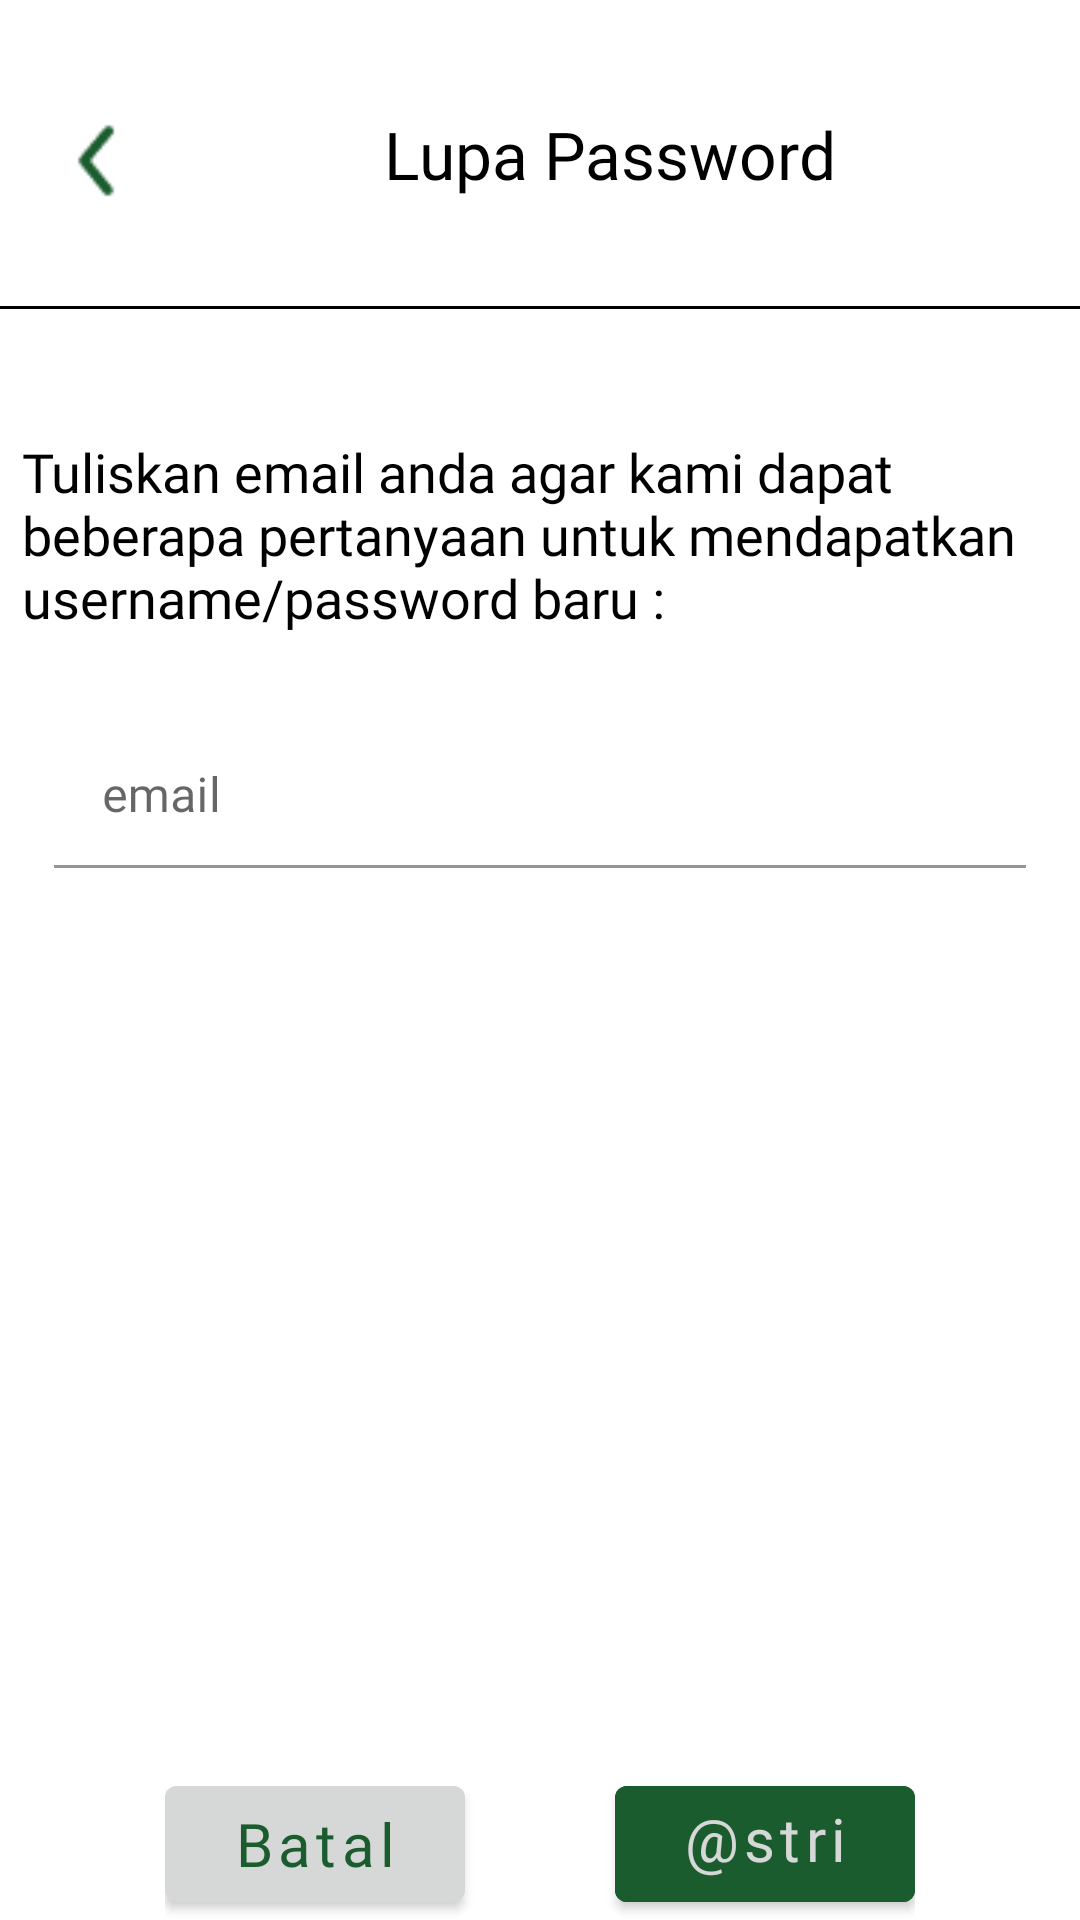

Screen size 1080px×1920px. Icon name, then its box in pixels as bbox=(x1, y1, x2, y2):
back: bbox=(78, 125, 115, 196)
